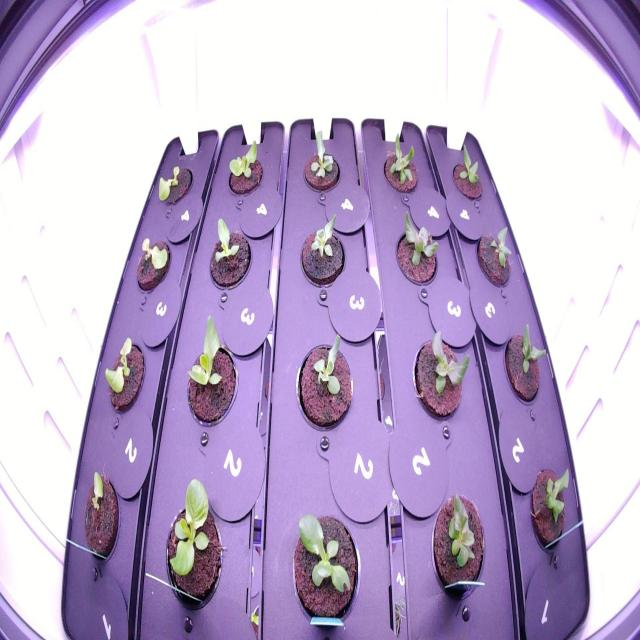young: (156, 473, 234, 622), (285, 506, 364, 631), (178, 308, 244, 435), (425, 482, 488, 608), (288, 327, 359, 438), (408, 324, 474, 436), (497, 304, 556, 408), (386, 203, 447, 295), (201, 208, 258, 306), (524, 452, 575, 560), (76, 463, 123, 578), (98, 330, 150, 420), (294, 206, 348, 292), (218, 129, 269, 209), (470, 218, 519, 299), (374, 126, 425, 197), (297, 122, 343, 197), (128, 232, 176, 297), (447, 138, 490, 208), (151, 156, 195, 211)
